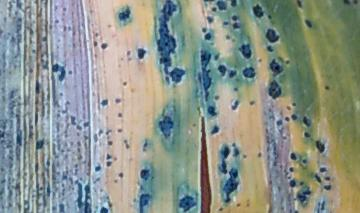tarspot: (156, 1, 185, 82), (197, 48, 210, 101), (223, 168, 238, 202), (159, 115, 174, 139), (294, 186, 311, 205), (179, 196, 196, 213), (269, 57, 283, 77), (268, 78, 281, 99), (52, 64, 67, 81), (118, 7, 132, 25), (139, 193, 151, 213), (264, 28, 280, 42), (238, 43, 252, 58), (84, 184, 91, 213), (251, 2, 264, 17), (77, 181, 84, 206), (242, 67, 256, 79), (219, 145, 231, 158), (315, 139, 325, 154), (217, 158, 227, 173), (140, 167, 151, 180), (217, 63, 227, 77), (137, 47, 146, 60), (14, 133, 23, 146), (208, 105, 217, 117), (231, 98, 240, 110), (302, 115, 311, 127), (217, 1, 227, 11), (36, 139, 45, 150), (40, 59, 49, 70), (317, 201, 325, 213), (106, 195, 113, 208), (35, 80, 41, 95), (304, 18, 313, 28), (211, 124, 219, 135), (229, 67, 237, 78), (314, 172, 322, 183), (45, 184, 51, 198), (70, 114, 77, 125), (206, 14, 214, 23), (265, 44, 274, 52), (303, 130, 312, 138), (58, 203, 65, 213), (143, 139, 148, 152), (229, 1, 237, 9), (296, 1, 304, 9), (232, 22, 241, 29), (289, 178, 296, 187), (319, 166, 328, 173), (99, 207, 109, 213), (81, 121, 91, 127), (101, 43, 109, 50), (114, 97, 122, 104), (104, 129, 112, 136), (97, 129, 104, 137), (290, 152, 296, 161), (233, 147, 239, 156), (323, 184, 332, 190), (93, 133, 98, 143), (101, 99, 108, 106), (105, 153, 112, 160), (205, 33, 212, 40), (275, 119, 282, 126), (291, 114, 298, 121), (95, 165, 101, 173), (231, 15, 239, 21), (203, 1, 215, 5), (124, 139, 129, 148), (223, 20, 229, 27), (214, 54, 220, 61), (249, 99, 255, 106), (285, 116, 291, 123), (116, 128, 124, 133), (257, 151, 262, 159), (107, 140, 113, 146), (118, 112, 124, 118), (201, 27, 207, 33), (211, 6, 217, 12), (214, 95, 220, 101), (225, 34, 231, 40), (267, 14, 273, 20), (324, 85, 330, 91), (257, 57, 263, 63), (285, 59, 291, 65), (231, 141, 237, 147), (242, 153, 248, 159), (246, 199, 250, 208), (217, 206, 224, 211), (1, 132, 6, 139), (107, 161, 112, 167), (122, 80, 127, 86), (126, 50, 131, 56), (233, 86, 239, 91), (286, 105, 291, 111), (303, 159, 308, 165), (325, 176, 331, 181), (119, 172, 124, 178), (94, 39, 98, 46), (343, 1, 350, 5), (352, 1, 359, 5), (290, 166, 294, 172), (292, 102, 296, 107), (300, 181, 305, 185), (236, 203, 241, 207), (294, 209, 297, 213)
